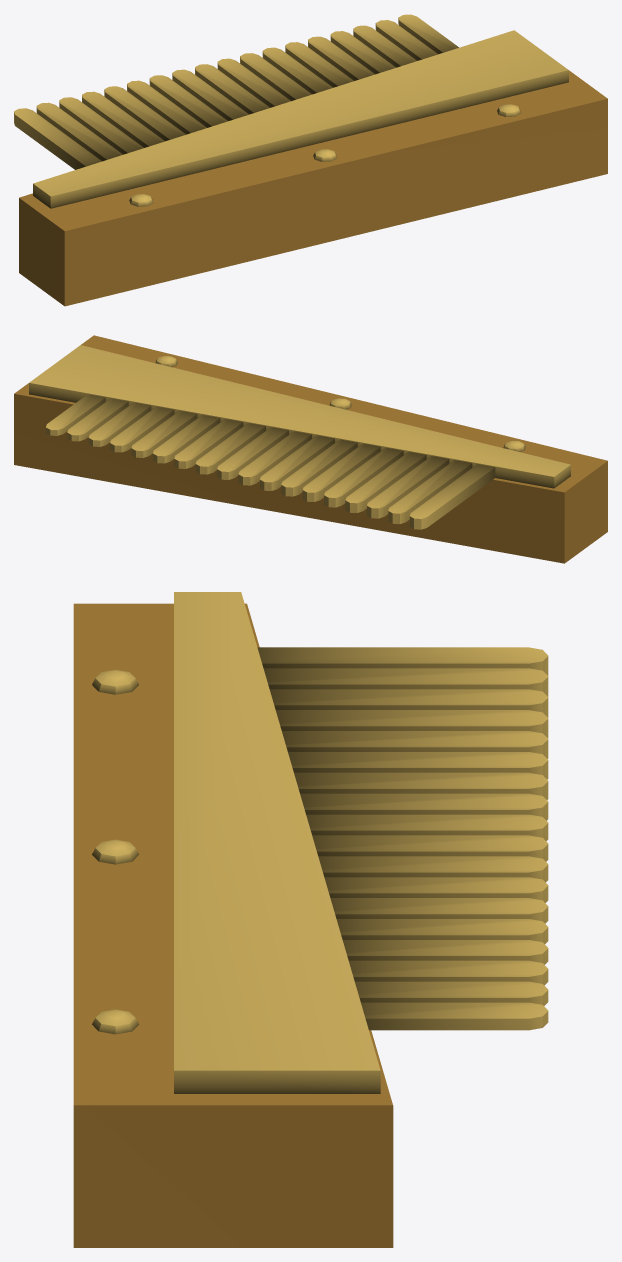
File: comb_music_box.glb
3 renders of one model, top to bottom at view 1: azimuth 30°, elevation 25°; view 2: azimuth 150°, elevation 25°; view 3: azimuth 270°, elevation 25°, orthographic. The views are drawn at different scales.
Parts seen in each view (by area): view 1: Comb_MusicBox; view 2: Comb_MusicBox; view 3: Comb_MusicBox.
Part boxes in pixels (x1,y1,x2,y2): Comb_MusicBox: [14, 14, 607, 306]; Comb_MusicBox: [14, 335, 607, 563]; Comb_MusicBox: [73, 592, 548, 1247].
Size of the model in its own units: 0.065 by 0.01 by 0.026.
